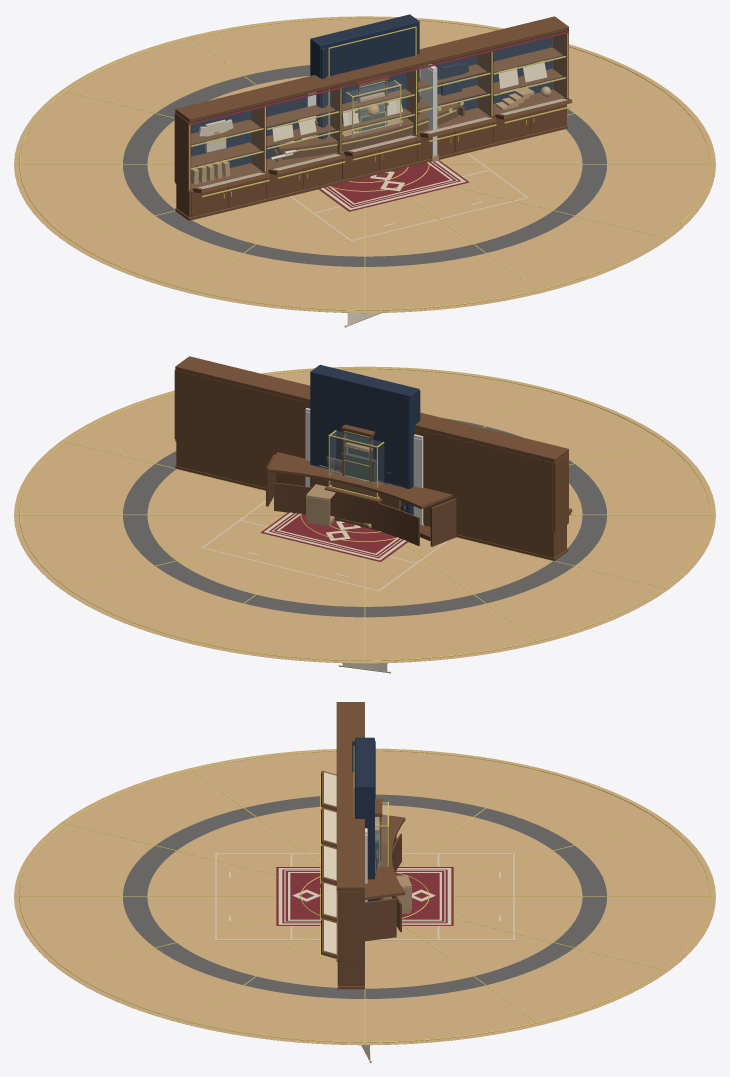
File: kit.5071b90c.glb
3 views of the same model, one above another, from view 1: azimuth 30°, elevation 25°; view 2: azimuth 150°, elevation 25°; view 3: azimuth 270°, elevation 25° (orthographic).
Parts seen in each view (by area): view 1: atrium-floor-inlay, history-case-run, atrium-floor-inlay__dark, history-case-run__lining, atrium-floor-inlay__brass, history-case-run__paper, holyoke-entry-screen__art, history-case-run__trim, office-rug, holyoke-entry-screen, history-case-run__artefacts, atrium-reception-desk__top (+5 smaller); view 2: atrium-floor-inlay, history-case-run, atrium-floor-inlay__dark, holyoke-entry-screen, atrium-floor-inlay__brass, atrium-reception-desk, office-rug, atrium-reception-desk__top, office-rug__border, partition, reception-desk, office-safe (+2 smaller); view 3: atrium-floor-inlay, atrium-floor-inlay__dark, history-case-run, atrium-floor-inlay__brass, office-rug, holyoke-entry-screen, office-rug__border, history-case-run__paper, atrium-reception-desk, atrium-reception-desk__top, gym-court-lines.
Boxes of the visible parts, bbox=[...] form: atrium-floor-inlay: bbox=[14, 16, 715, 313]; history-case-run: bbox=[174, 16, 572, 220]; atrium-floor-inlay__dark: bbox=[123, 65, 606, 266]; history-case-run__lining: bbox=[191, 34, 552, 168]; atrium-floor-inlay__brass: bbox=[17, 17, 712, 311]; history-case-run__paper: bbox=[196, 61, 567, 188]; holyoke-entry-screen__art: bbox=[329, 28, 415, 136]; history-case-run__trim: bbox=[189, 33, 572, 198]; office-rug: bbox=[318, 160, 469, 211]; holyoke-entry-screen: bbox=[310, 14, 419, 139]; history-case-run__artefacts: bbox=[191, 86, 551, 184]; atrium-reception-desk__top: bbox=[277, 102, 460, 151]; atrium-floor-inlay: bbox=[14, 366, 715, 663]; history-case-run: bbox=[174, 356, 572, 560]; atrium-floor-inlay__dark: bbox=[123, 418, 606, 617]; holyoke-entry-screen: bbox=[310, 364, 420, 514]; atrium-floor-inlay__brass: bbox=[17, 368, 712, 661]; atrium-reception-desk: bbox=[266, 454, 456, 546]; office-rug: bbox=[260, 512, 407, 561]; atrium-reception-desk__top: bbox=[268, 452, 452, 509]; office-rug__border: bbox=[264, 512, 406, 560]; partition: bbox=[305, 408, 423, 523]; reception-desk: bbox=[306, 484, 335, 526]; office-safe: bbox=[341, 452, 376, 481]; atrium-floor-inlay: bbox=[14, 748, 715, 1045]; atrium-floor-inlay__dark: bbox=[123, 794, 606, 998]; history-case-run: bbox=[321, 702, 364, 989]; atrium-floor-inlay__brass: bbox=[17, 750, 712, 1043]; office-rug: bbox=[276, 867, 453, 925]; holyoke-entry-screen: bbox=[352, 737, 375, 901]; office-rug__border: bbox=[278, 868, 451, 924]; history-case-run__paper: bbox=[324, 772, 336, 954]; atrium-reception-desk: bbox=[365, 833, 401, 941]; atrium-reception-desk__top: bbox=[365, 814, 405, 900]; gym-court-lines: bbox=[215, 853, 514, 940].
Bounding box in the file's own units: 16.4 × 7.48 × 16.4.
